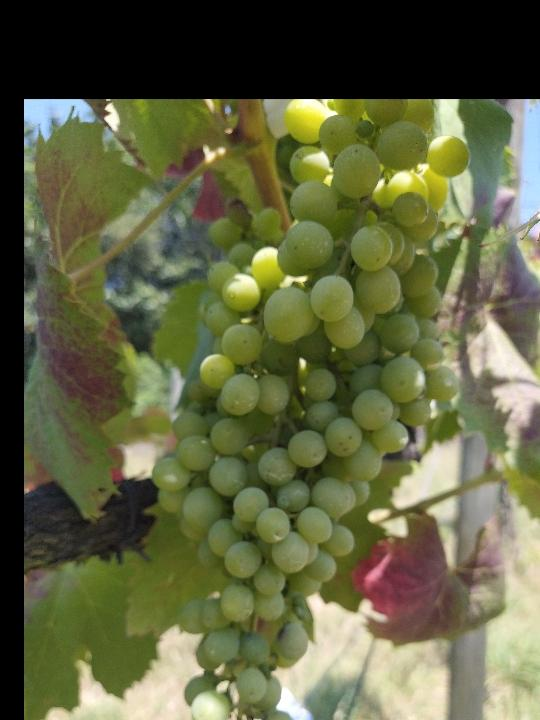grape: (154, 102, 470, 720)
